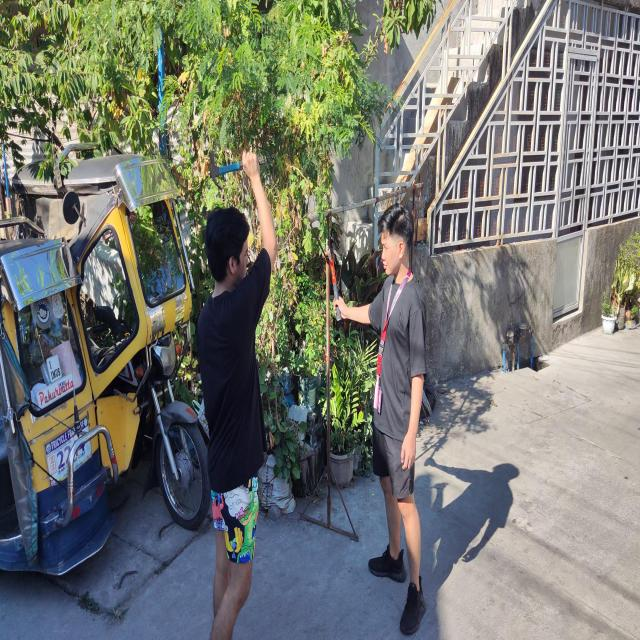hammer: (209, 151, 265, 190), (322, 248, 342, 321)
